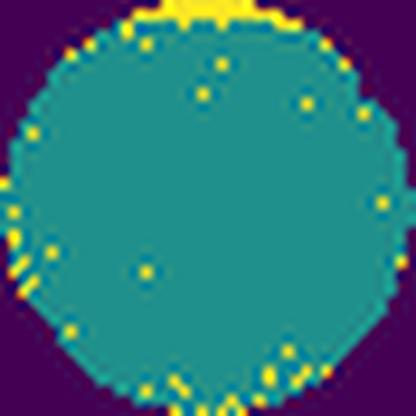Edge-Loc: (114, 0, 304, 43)
